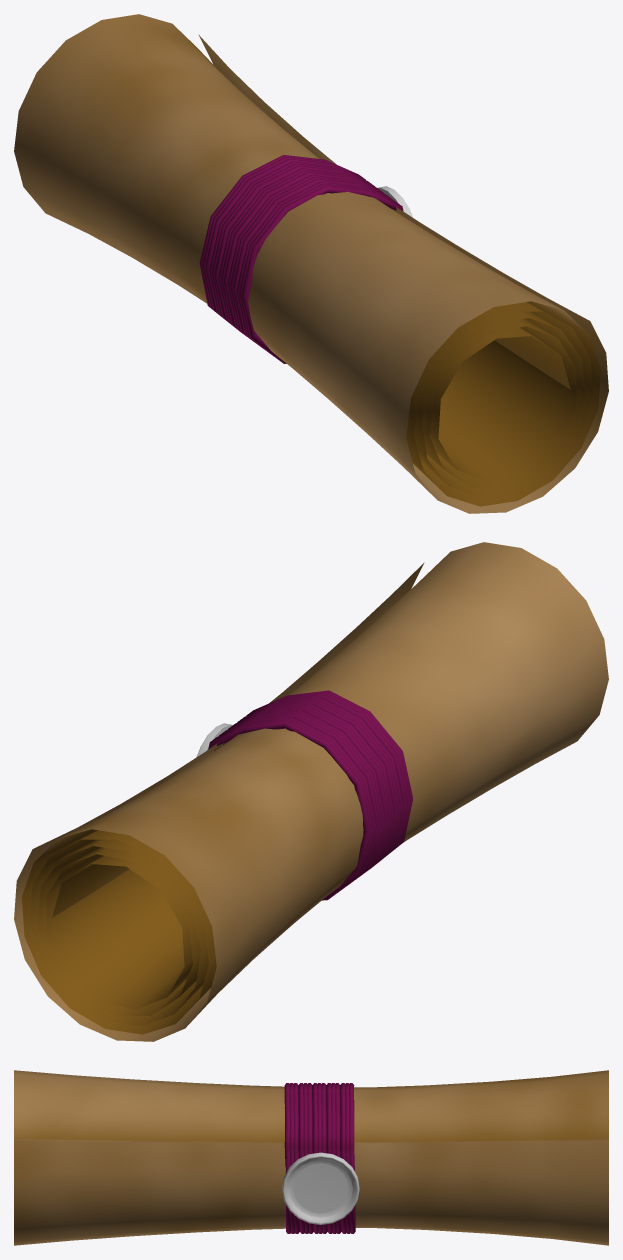
The model's file is GG_SM_Scroll.fbx.
3 renders of one model, top to bottom at view 1: azimuth 30°, elevation 25°; view 2: azimuth 150°, elevation 25°; view 3: azimuth 270°, elevation 25°, orthographic. The views are drawn at different scales.
Parts seen in each view (by area): view 1: GG_SM_Scroll; view 2: GG_SM_Scroll; view 3: GG_SM_Scroll, GG_SM_Brooch.
Boxes of the visible parts, bbox=[...] form: GG_SM_Scroll: bbox=[14, 14, 608, 513]; GG_SM_Scroll: bbox=[14, 542, 608, 1041]; GG_SM_Scroll: bbox=[14, 1070, 608, 1245]; GG_SM_Brooch: bbox=[282, 1152, 359, 1224].
Bounding box in the file's own units: 14.42 × 14.16 × 48.31.
